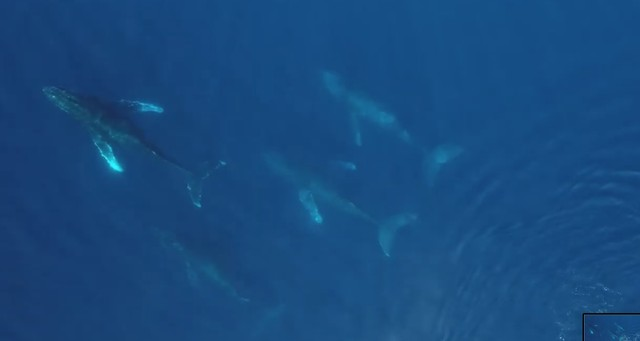whale: (35, 77, 235, 212), (239, 125, 420, 262), (304, 57, 469, 195)
